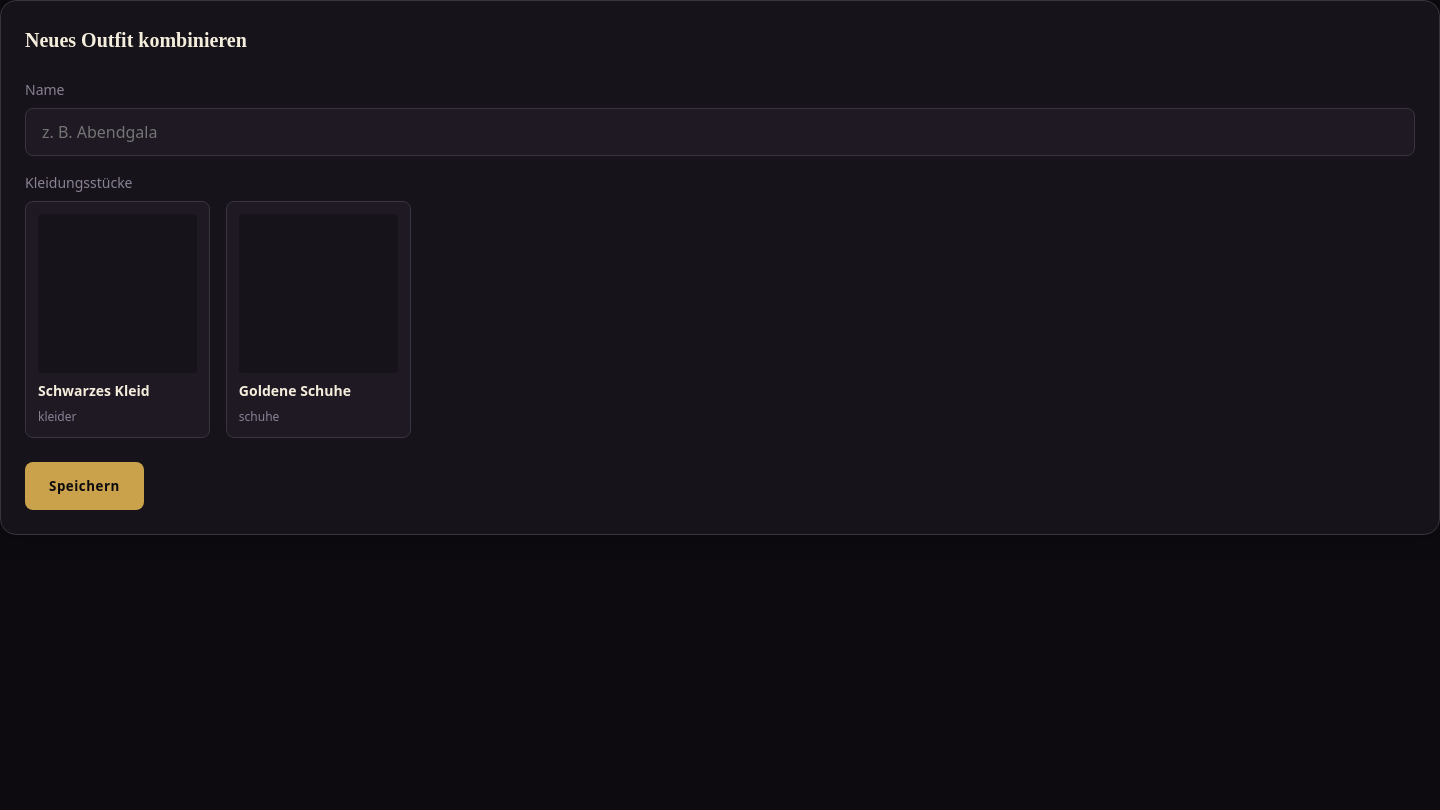
Test: OutfitCreator › shows a validation error when no items are selected
Expected: the text "Schwarzes Kleid" is shown, [38,381,150,400]
Type "Abendgala" into the field with placeholder "z. B. Abendgala".
click(720, 132); type("Abendgala")  # box [25,108,1415,156]
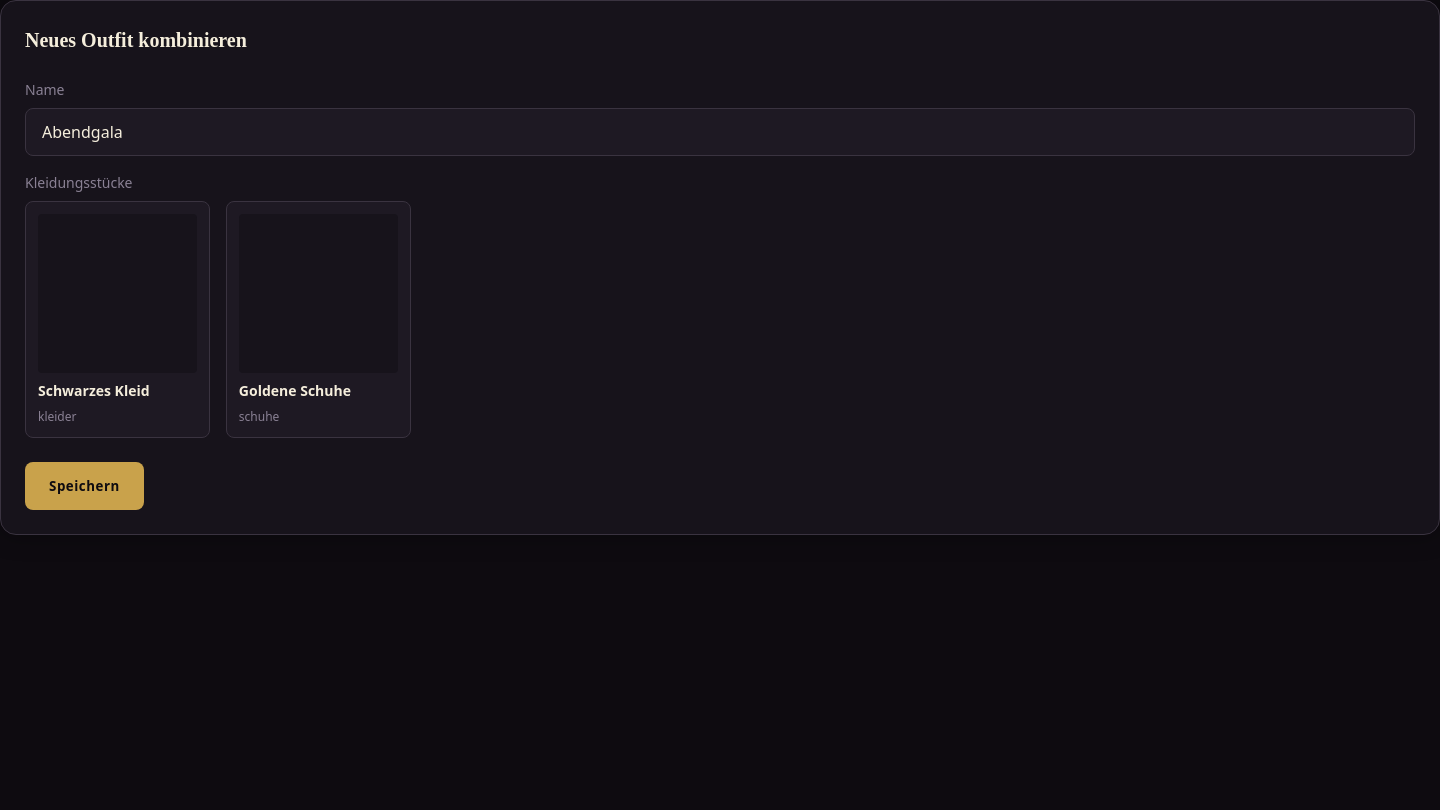
Click the button "Speichern".
click(84, 486)  # box [25,462,144,510]
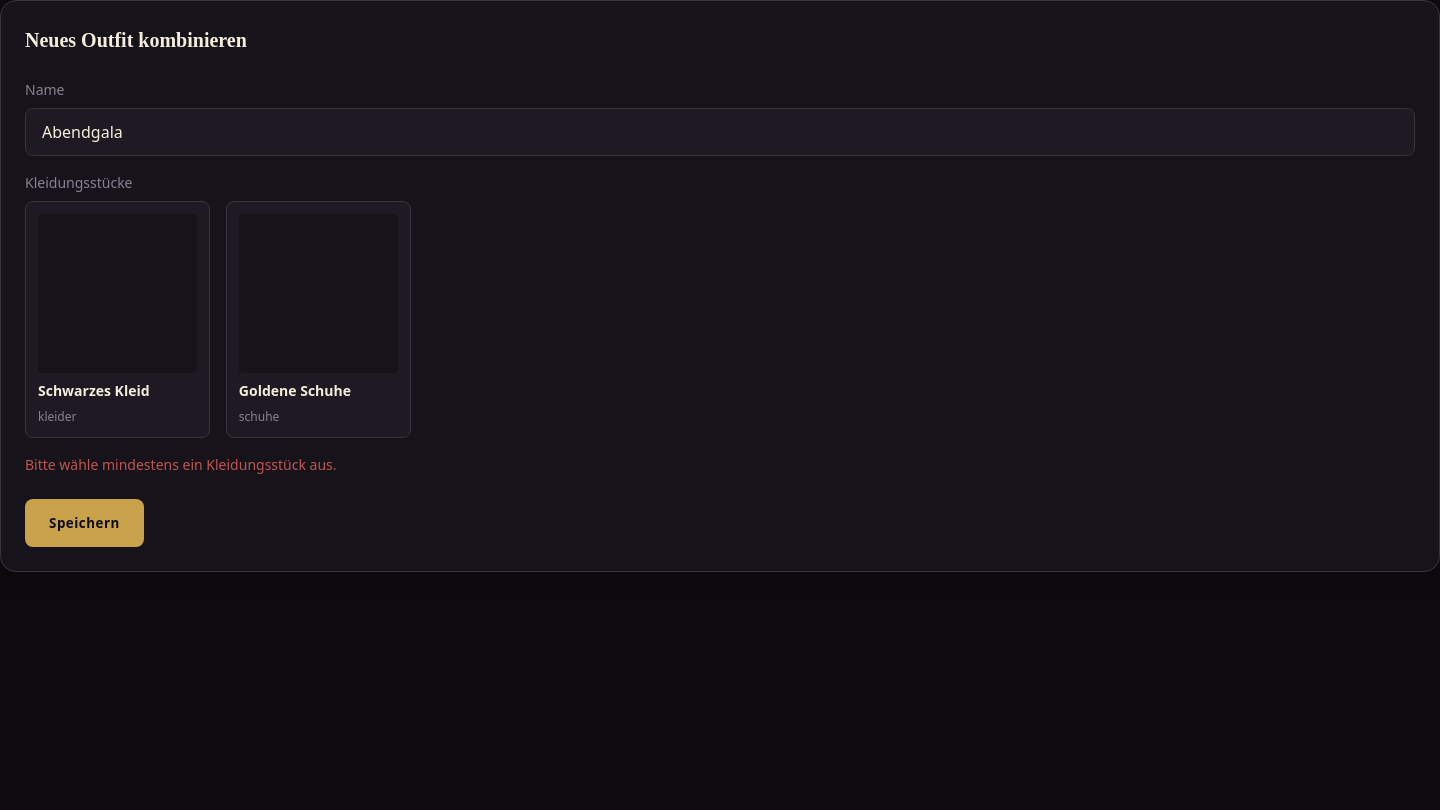
Now the text "Bitte wähle mindestens ein Kleidungsstück aus." is shown, box [25,455,337,474]
